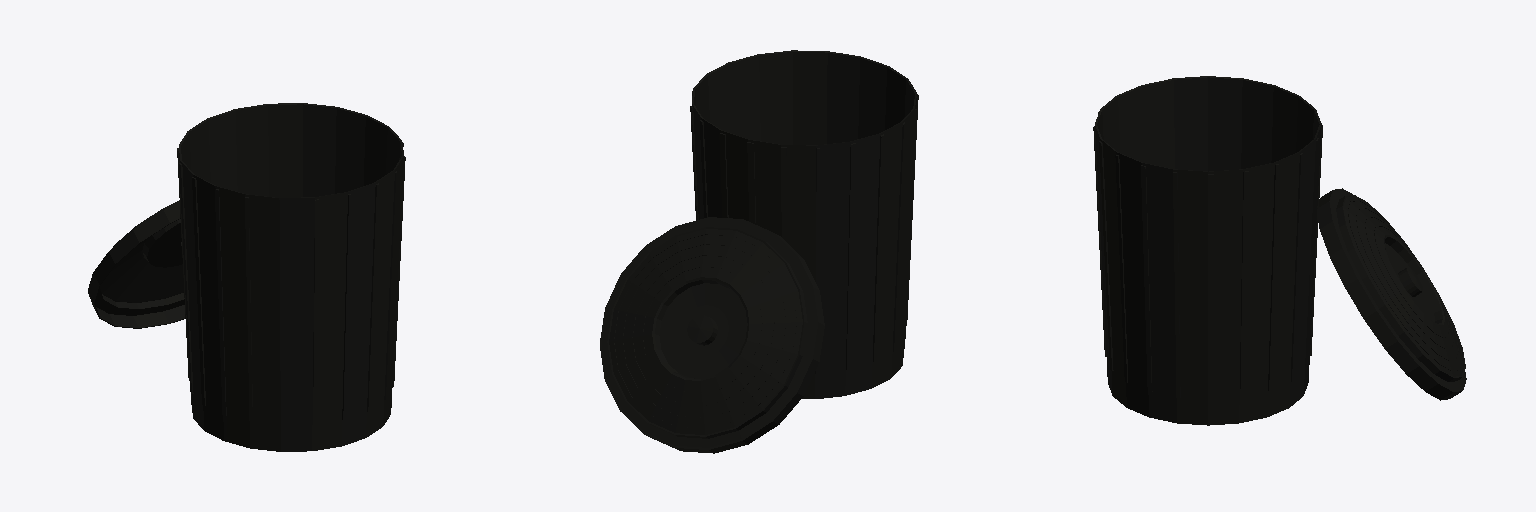
The model's file is trashcan.obj.
3 renders of one model, left to right at view 1: azimuth 30°, elevation 25°; view 2: azimuth 150°, elevation 25°; view 3: azimuth 270°, elevation 25°, orthographic.
Parts seen in each view (by area): view 1: trashcan trashcan, trashcan trashcanLid; view 2: trashcan trashcan, trashcan trashcanLid; view 3: trashcan trashcan, trashcan trashcanLid.
Part boxes in pixels (bbox=[...]): trashcan trashcan: bbox=[177, 103, 405, 451]; trashcan trashcanLid: bbox=[88, 200, 185, 328]; trashcan trashcan: bbox=[690, 50, 918, 398]; trashcan trashcanLid: bbox=[600, 217, 824, 453]; trashcan trashcan: bbox=[1093, 76, 1322, 425]; trashcan trashcanLid: bbox=[1317, 188, 1466, 400].
Bounding box in the file's own units: 4.43 × 5.37 × 6.9.